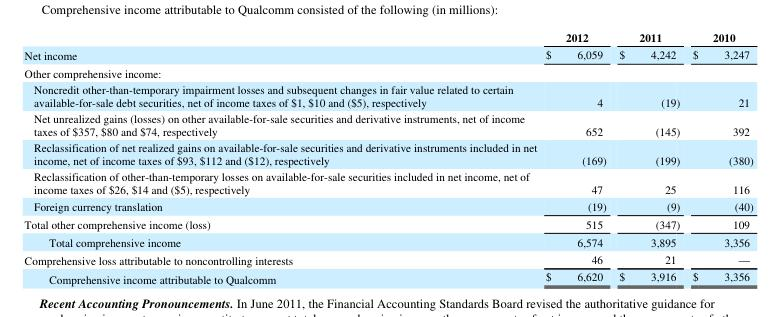table: (23, 28, 752, 286)
table column: (23, 28, 540, 286), (612, 28, 685, 286), (540, 28, 612, 286), (685, 28, 752, 286)
table column header: (23, 28, 752, 45)
table projected row header: (23, 63, 752, 80)
table row: (23, 80, 752, 109), (23, 109, 752, 138), (23, 138, 752, 167), (23, 167, 752, 196), (23, 267, 752, 286), (23, 45, 752, 63), (23, 196, 752, 214), (23, 214, 752, 232), (23, 232, 752, 250), (23, 28, 752, 45), (23, 63, 752, 80), (23, 250, 752, 267)
